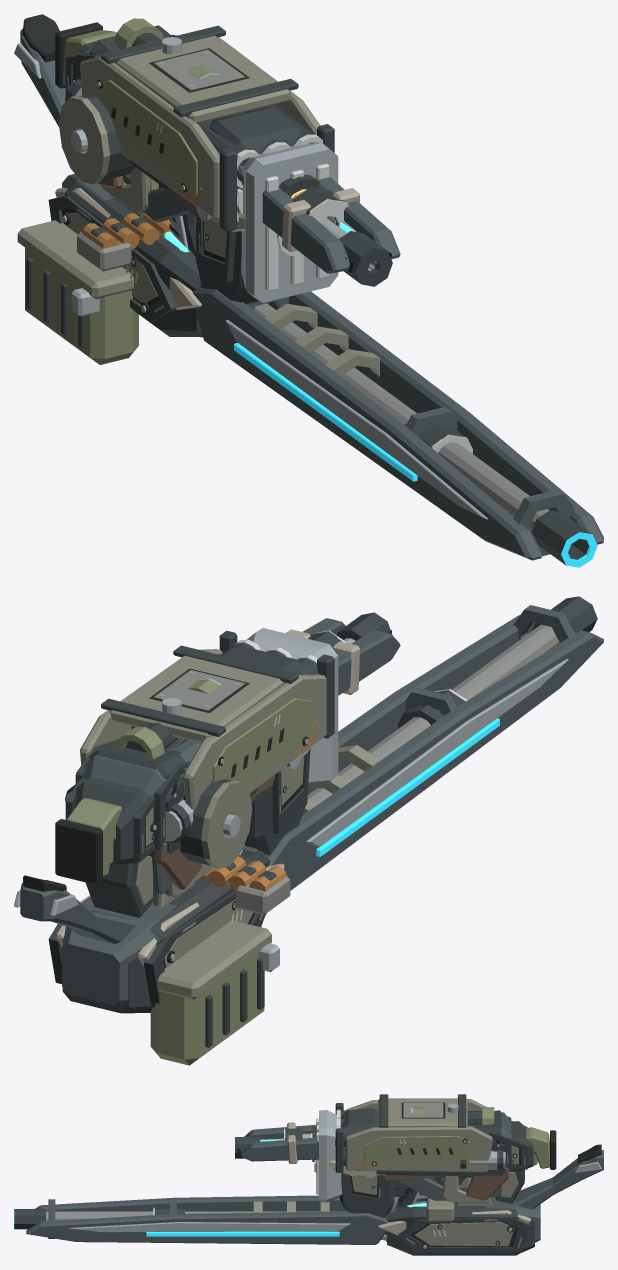
Rendered from expansion-weapons.glb.
3 views of the same model, one above another, from view 1: azimuth 30°, elevation 25°; view 2: azimuth 150°, elevation 25°; view 3: azimuth 270°, elevation 25° (orthographic). The views are drawn at different scales.
Visible parts, largest first — view 1: parallax__armory_blue_slate, cerberus__armory_sand_casting, rivet__armory_sand_casting, rivet__armory_graphite, anchor-hammer.striker__armory_steel, rivet__armory_olive, cerberus__armory_graphite, anchor-hammer__armory_graphite, obelisk__armory_blue_slate, parallax__armory_steel, cerberus__armory_olive, parallax.pulse_bore__armory_warmsteel (+19 smaller); view 2: parallax__armory_blue_slate, cerberus__armory_sand_casting, rivet__armory_graphite, rivet__armory_sand_casting, trident__armory_graphite, rivet__armory_olive, parallax__armory_steel, cerberus__armory_olive, cerberus__armory_graphite, parallax.pulse_bore__armory_warmsteel, anchor-hammer__armory_graphite, anchor-hammer.striker__armory_steel (+22 smaller); view 3: parallax__armory_blue_slate, cerberus__armory_sand_casting, rivet__armory_graphite, rivet__armory_sand_casting, cerberus__armory_olive, parallax__armory_steel, anchor-hammer__armory_graphite, obelisk__armory_blue_slate, cerberus__armory_graphite, anchor-hammer.striker__armory_steel, trident__armory_graphite, parallax__armory_charge (+22 smaller).
Part boxes in pixels (<box>): parallax__armory_blue_slate: <box>20,28,603,560</box>; cerberus__armory_sand_casting: <box>80,35,320,219</box>; rivet__armory_sand_casting: <box>17,194,380,376</box>; rivet__armory_graphite: <box>26,181,202,348</box>; anchor-hammer.striker__armory_steel: <box>241,143,338,302</box>; rivet__armory_olive: <box>25,247,138,364</box>; cerberus__armory_graphite: <box>101,25,334,231</box>; anchor-hammer__armory_graphite: <box>159,107,301,305</box>; obelisk__armory_blue_slate: <box>262,176,400,273</box>; parallax__armory_steel: <box>14,43,487,519</box>; cerberus__armory_olive: <box>98,80,197,196</box>; parallax.pulse_bore__armory_warmsteel: <box>254,303,549,531</box>; parallax__armory_blue_slate: <box>20,605,603,1005</box>; cerberus__armory_sand_casting: <box>80,649,326,896</box>; rivet__armory_graphite: <box>48,849,269,1047</box>; rivet__armory_sand_casting: <box>147,745,380,999</box>; trident__armory_graphite: <box>65,737,187,917</box>; rivet__armory_olive: <box>150,953,264,1065</box>; parallax__armory_steel: <box>14,658,568,916</box>; cerberus__armory_olive: <box>213,698,312,785</box>; cerberus__armory_graphite: <box>101,630,334,738</box>; parallax.pulse_bore__armory_warmsteel: <box>307,624,559,804</box>; anchor-hammer__armory_graphite: <box>224,646,310,855</box>; anchor-hammer.striker__armory_steel: <box>247,628,338,788</box>; parallax__armory_blue_slate: <box>26,1150,603,1244</box>; cerberus__armory_sand_casting: <box>345,1098,492,1202</box>; rivet__armory_graphite: <box>387,1200,534,1255</box>; rivet__armory_sand_casting: <box>253,1177,514,1246</box>; cerberus__armory_olive: <box>364,1136,469,1164</box>; parallax__armory_steel: <box>69,1161,601,1232</box>; anchor-hammer__armory_graphite: <box>339,1108,464,1217</box>; obelisk__armory_blue_slate: <box>241,1124,501,1161</box>; cerberus__armory_graphite: <box>335,1094,481,1175</box>; anchor-hammer.striker__armory_steel: <box>319,1110,342,1202</box>; trident__armory_graphite: <box>467,1121,533,1203</box>; parallax__armory_charge: <box>146,1231,339,1236</box>.
Bounding box in the file's own units: 1.67 × 2.95 × 9.74.
